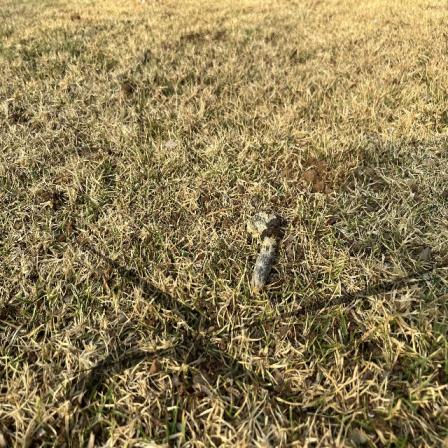dog-poop: (248, 211, 285, 288)
